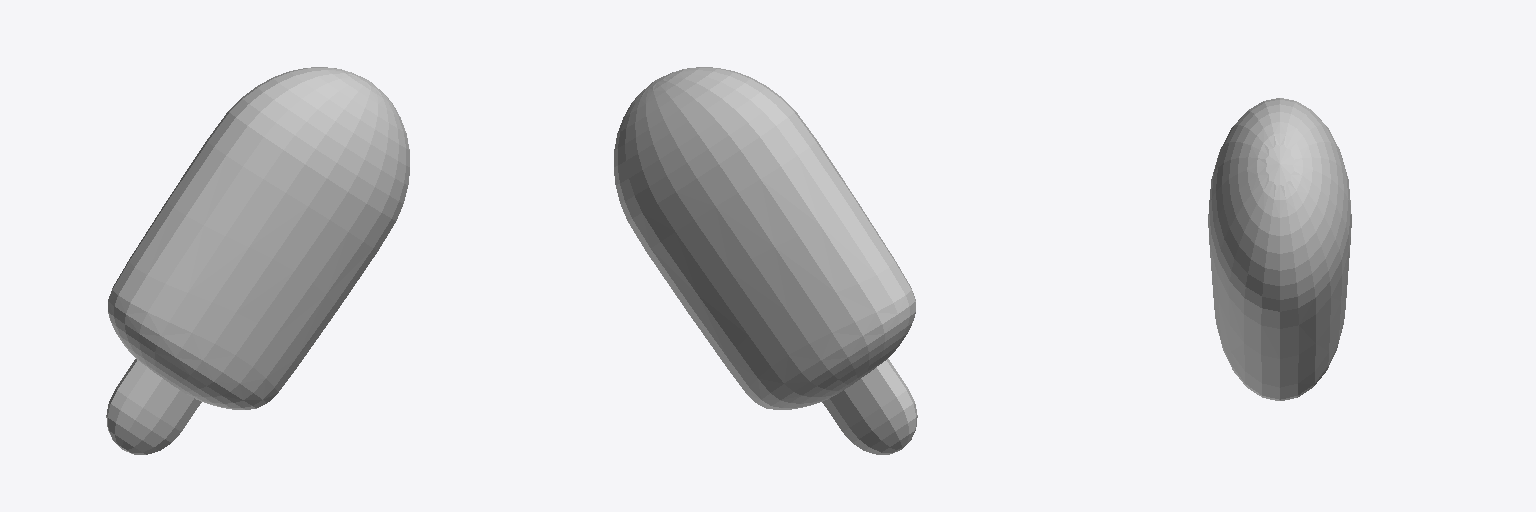
Rendered from zenly.obj.
The picture shows the model from 3 angles: view 1: azimuth 30°, elevation 25°; view 2: azimuth 150°, elevation 25°; view 3: azimuth 270°, elevation 25°; orthographic projection.
Visible parts, largest first — view 1: glaceZenly; view 2: glaceZenly; view 3: glaceZenly.
Boxes of the visible parts, <box> form: glaceZenly: <box>106,67,409,454</box>; glaceZenly: <box>614,67,917,454</box>; glaceZenly: <box>1208,98,1351,400</box>.
Size of the model in its own units: 62.5 by 68.85 by 26.22.